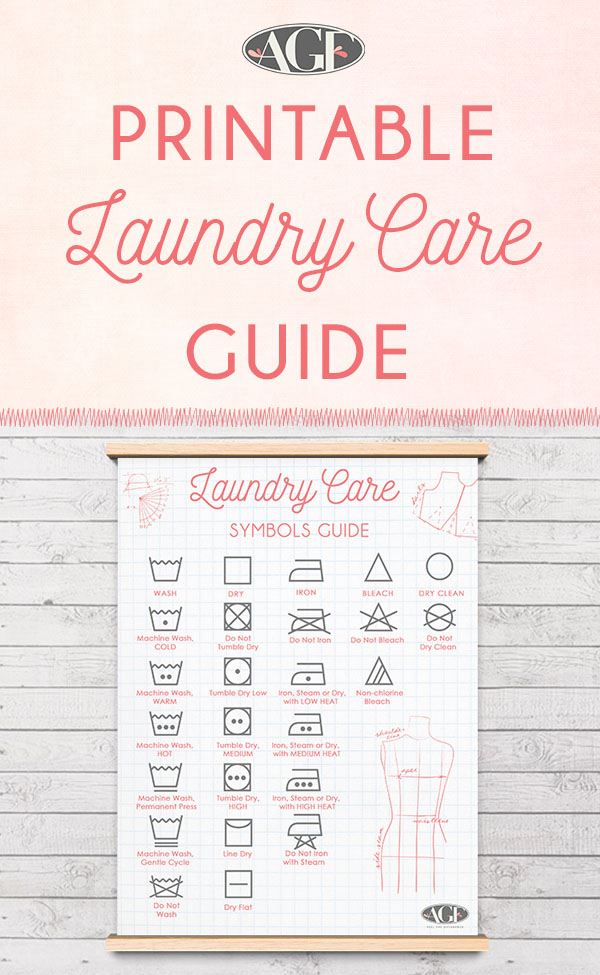do_not_bleach: (358, 603, 398, 633)
do_not_dry_clean: (422, 602, 455, 632)
do_not_iron: (290, 607, 330, 635)
do_not_wash: (147, 871, 182, 900)
